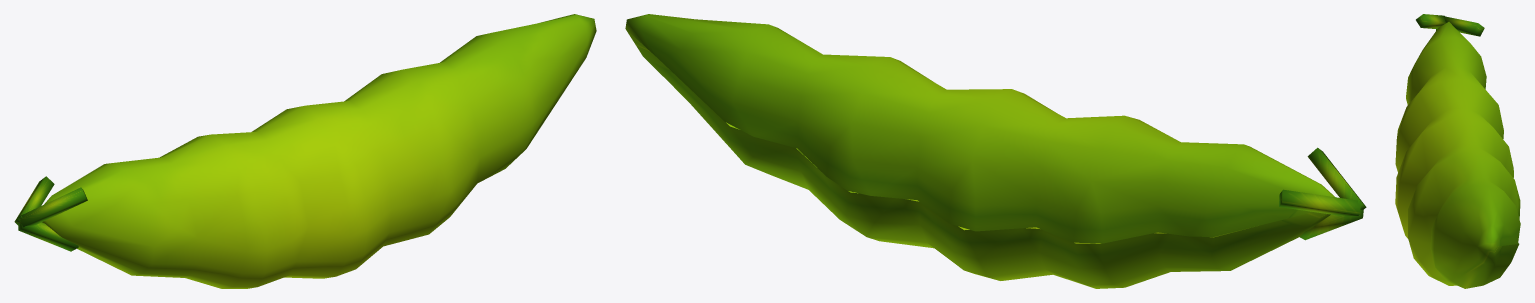
The model's file is NP_Pea_Harvest_LOD1.fbx.
The picture shows the model from 3 angles, left to right: view 1: azimuth 30°, elevation 25°; view 2: azimuth 150°, elevation 25°; view 3: azimuth 270°, elevation 25°; orthographic projection. The views are drawn at different scales.
Parts seen in each view (by area): view 1: NP_Pea_Harvest; view 2: NP_Pea_Harvest; view 3: NP_Pea_Harvest.
Boxes of the visible parts, x1=… form: NP_Pea_Harvest: x1=14, y1=14, x2=596, y2=288; NP_Pea_Harvest: x1=625, y1=14, x2=1366, y2=288; NP_Pea_Harvest: x1=1395, y1=14, x2=1520, y2=288.
Size of the model in its own units: 29.51 by 8.27 by 6.2.
